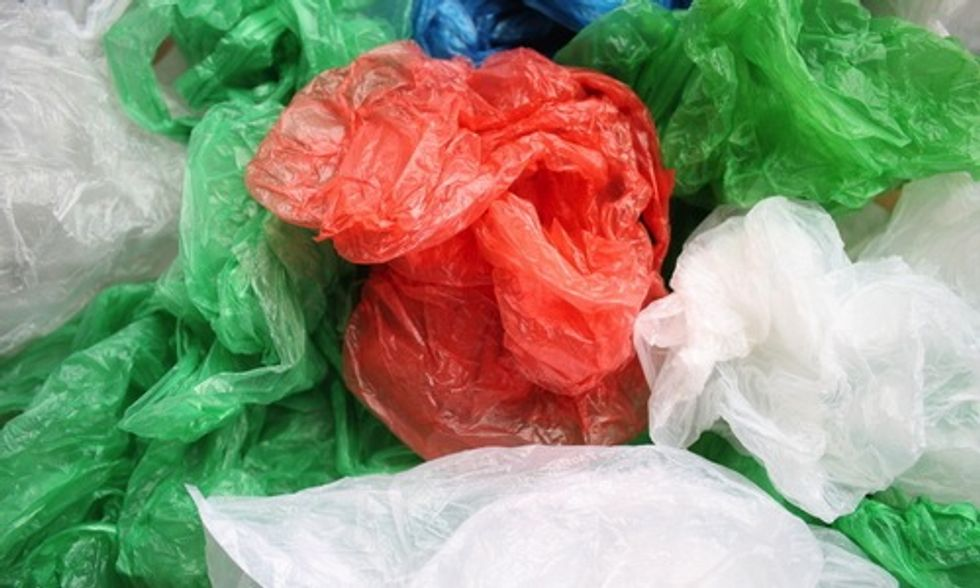plastic_bagwdw: (231, 26, 676, 502), (522, 75, 980, 537), (3, 257, 490, 588), (542, 1, 980, 312), (625, 307, 980, 583), (1, 2, 222, 355), (383, 3, 803, 160), (814, 118, 980, 336)
